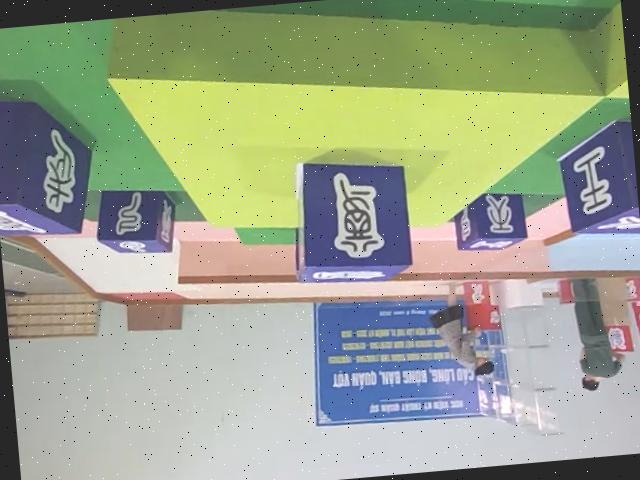R2 Fake Blue: (285, 149, 416, 285), (0, 84, 97, 238), (552, 116, 640, 238), (91, 181, 179, 257), (451, 185, 529, 250)
